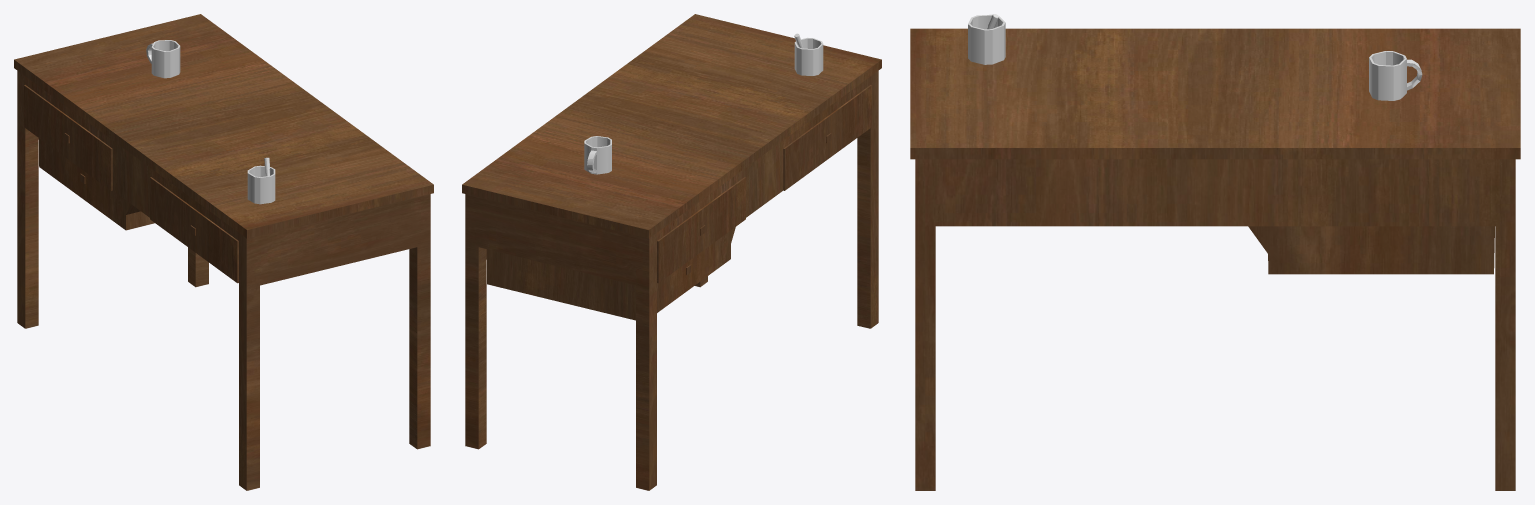
File: mesaprincipal escritorio .fbx
The picture shows the model from 3 angles, left to right: view 1: azimuth 30°, elevation 25°; view 2: azimuth 150°, elevation 25°; view 3: azimuth 270°, elevation 25°; orthographic projection. The views are drawn at different scales.
Parts seen in each view (by area): view 1: Mesa, caneca, porta caneta; view 2: Mesa, porta caneta, caneca; view 3: Mesa, caneca, porta caneta.
Part boxes in pixels (x1,y1,x2,y2): Mesa: (14, 14, 433, 490); caneca: (146, 40, 180, 78); porta caneta: (247, 165, 275, 204); Mesa: (462, 14, 881, 490); porta caneta: (794, 37, 823, 75); caneca: (584, 136, 611, 174); Mesa: (910, 28, 1520, 490); caneca: (1369, 51, 1422, 100); porta caneta: (968, 14, 1005, 64).
Size of the model in its own units: 56.67 by 86.27 by 122.
